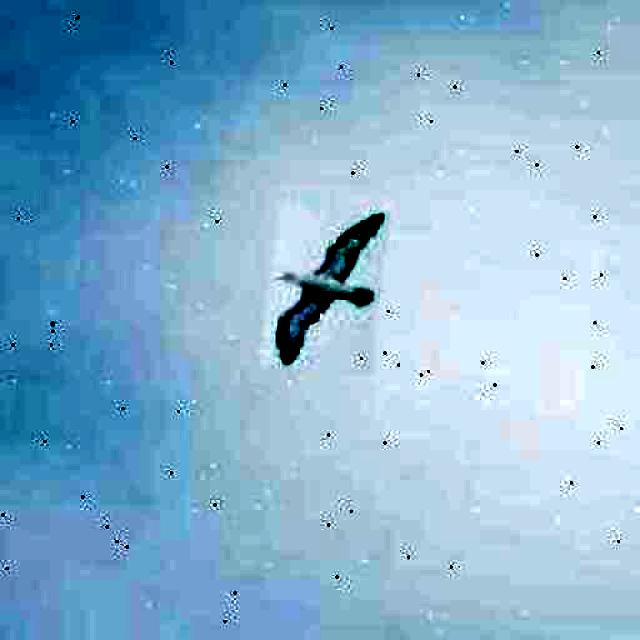airplane: (258, 200, 390, 376)
